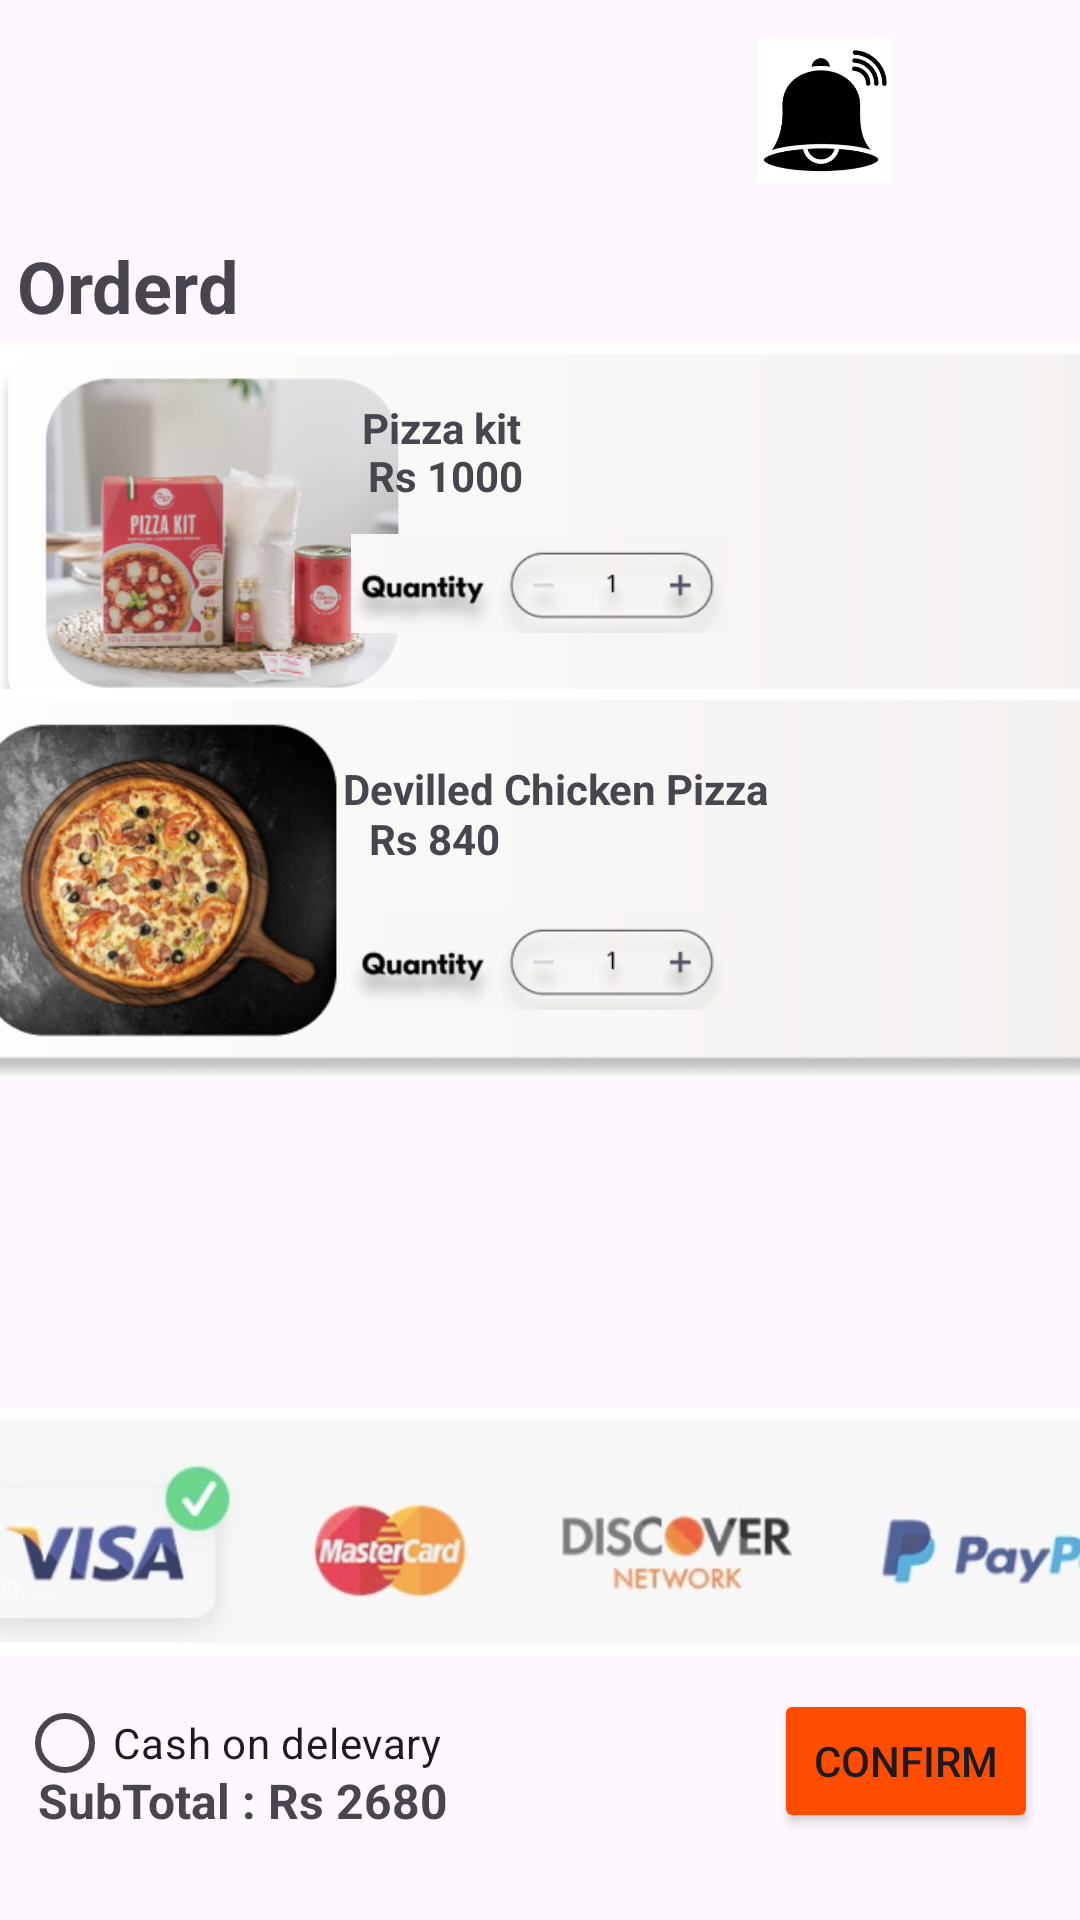

Screen size 1080 x 1920. Icon name, then its center in pixels as [x,y]:
go to notification page: [825,110]
